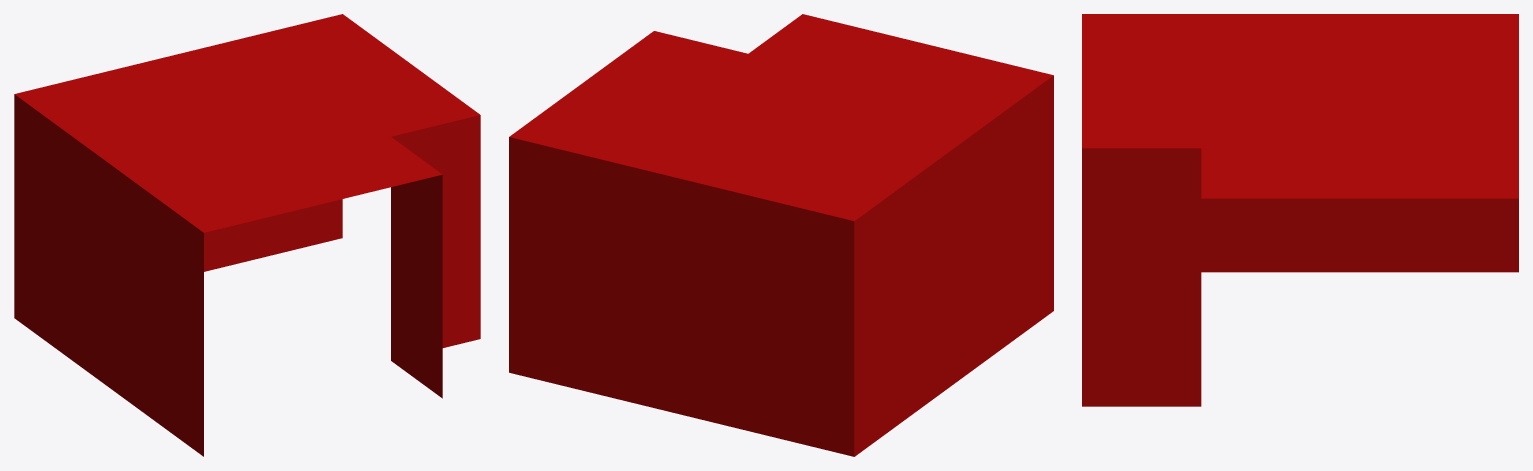
Rendered from c_hallway_corner_w.fbx.
3 renders of one model, left to right at view 1: azimuth 30°, elevation 25°; view 2: azimuth 150°, elevation 25°; view 3: azimuth 270°, elevation 25°, orthographic. The views are drawn at different scales.
Parts seen in each view (by area): view 1: coll_hallway_corner_w; view 2: coll_hallway_corner_w; view 3: coll_hallway_corner_w.
Boxes of the visible parts, left/top/right/bottom form: coll_hallway_corner_w: left=14, top=14, right=480, bottom=456; coll_hallway_corner_w: left=509, top=14, right=1053, bottom=456; coll_hallway_corner_w: left=1082, top=14, right=1518, bottom=406.
Size of the model in its own units: 1100 by 717 by 1100.
